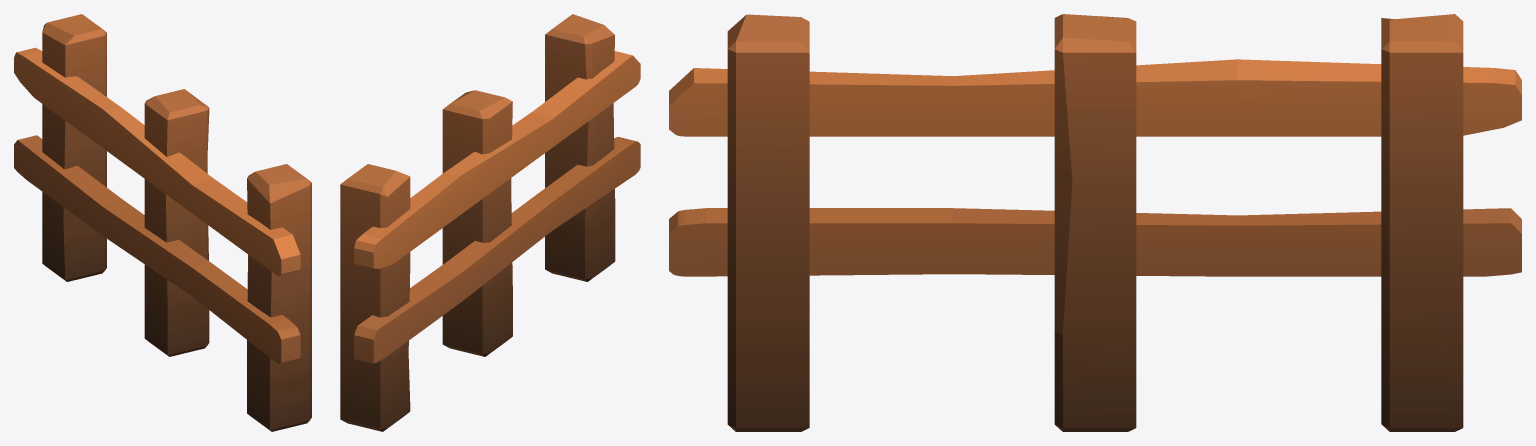
Rendered from Fence.fbx.
3 renders of one model, left to right at view 1: azimuth 30°, elevation 25°; view 2: azimuth 150°, elevation 25°; view 3: azimuth 270°, elevation 25°, orthographic. The views are drawn at different scales.
Parts seen in each view (by area): view 1: Fence; view 2: Fence; view 3: Fence.
Boxes of the visible parts, left/top/right/bottom form: Fence: left=14, top=14, right=311, bottom=431; Fence: left=340, top=14, right=640, bottom=431; Fence: left=669, top=14, right=1521, bottom=431.
Size of the model in its own units: 29.09 by 132 by 261.
